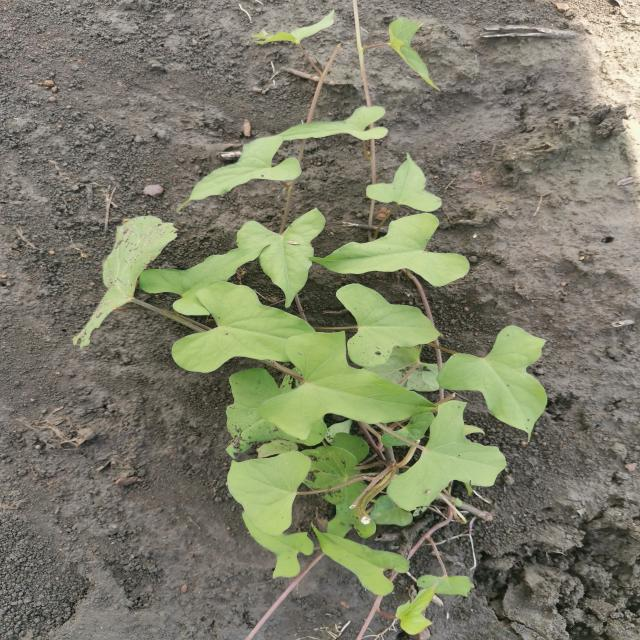MorningGlory: (68, 2, 551, 639)
